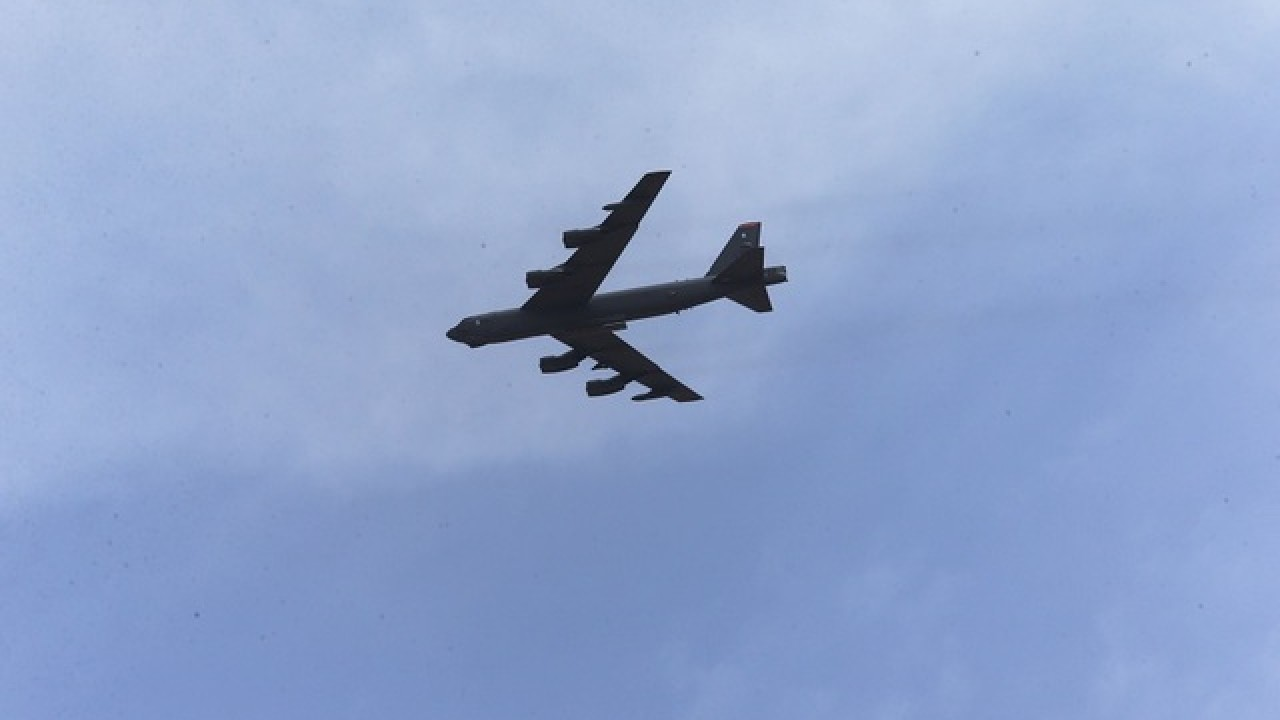B52: (445, 170, 789, 403)
